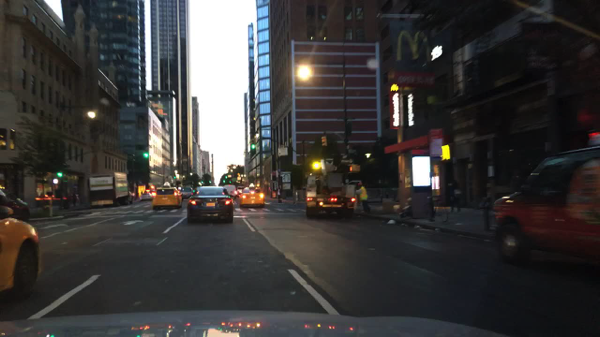car: (483, 144, 599, 269), (0, 220, 41, 302), (186, 185, 234, 224), (0, 183, 32, 220), (154, 187, 183, 210), (238, 184, 265, 207), (178, 185, 193, 198), (223, 184, 237, 197), (140, 192, 153, 202), (237, 186, 243, 195)
person: (445, 176, 463, 213), (355, 181, 370, 214), (72, 192, 77, 207)
traffic light: (347, 165, 359, 173), (321, 135, 328, 147), (143, 149, 148, 159), (251, 140, 256, 150), (56, 171, 63, 178), (224, 174, 230, 178)
traffic sign: (278, 147, 287, 156)
truck: (304, 162, 358, 219), (87, 172, 134, 212)
